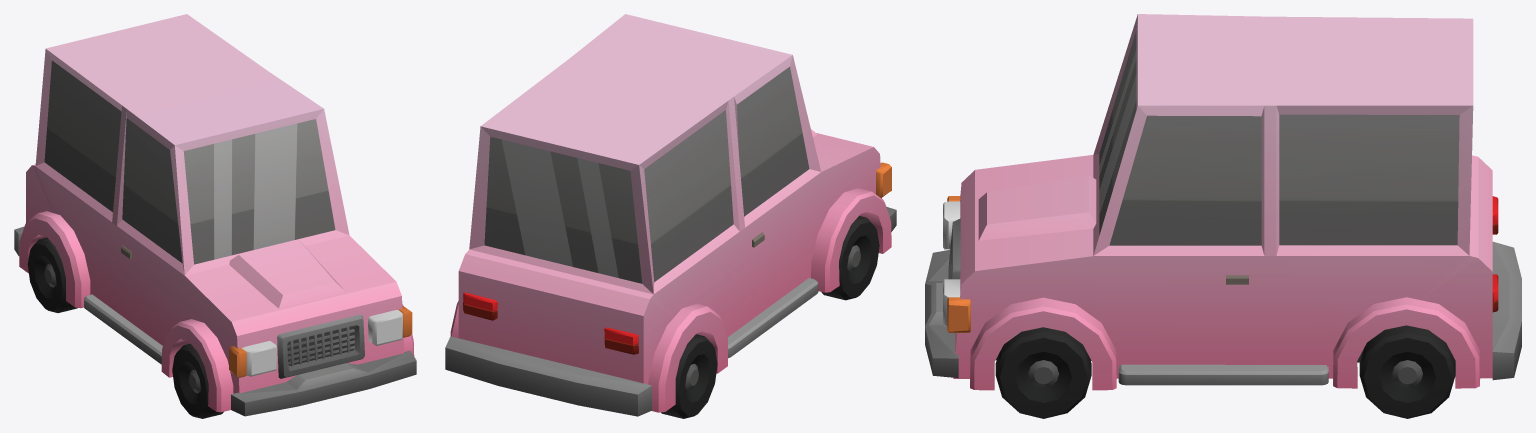
Rendered from Car_5_3.glb.
3 renders of one model, left to right at view 1: azimuth 30°, elevation 25°; view 2: azimuth 150°, elevation 25°; view 3: azimuth 270°, elevation 25°, orthographic. The views are drawn at different scales.
Visible parts, largest first — view 1: Car_5_3, W_br, W_fr; view 2: Car_5_3, W_br, W_fr; view 3: Car_5_3, W_bl, W_fl.
Boxes of the visible parts, <box> form: Car_5_3: <box>14,14,416,416</box>; W_br: <box>27,237,77,312</box>; W_fr: <box>172,343,223,418</box>; Car_5_3: <box>445,14,896,416</box>; W_br: <box>661,334,717,418</box>; W_fr: <box>821,216,879,300</box>; Car_5_3: <box>925,14,1521,390</box>; W_bl: <box>1359,325,1455,418</box>; W_fl: <box>995,327,1091,418</box>.
Size of the model in its own units: 1.13 by 1.3 by 2.33.
Materials: 6 (6 with a texture image).
